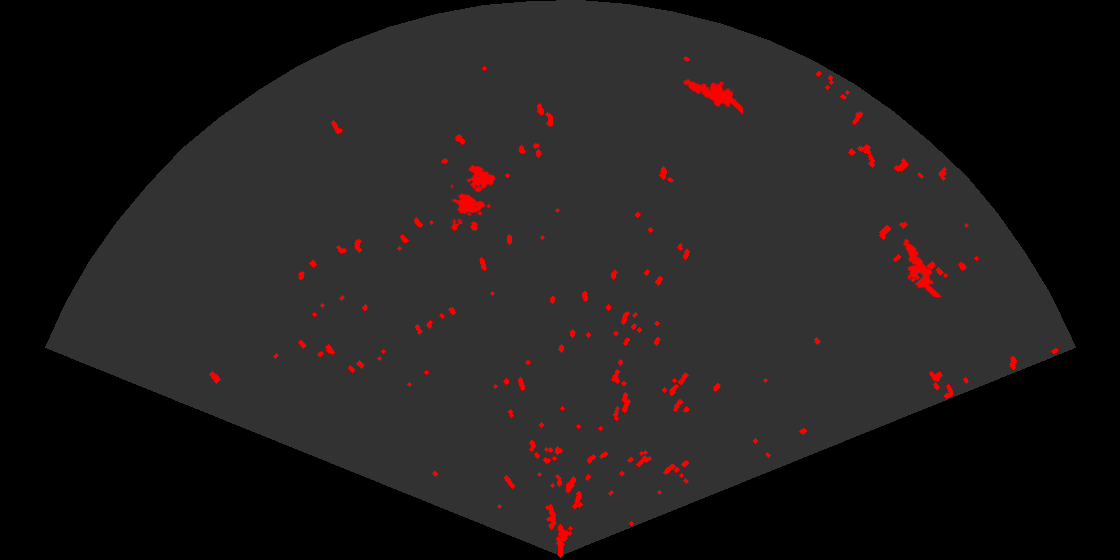cage: (451, 163, 497, 224)
frogman: (901, 237, 943, 297), (682, 77, 743, 116)
